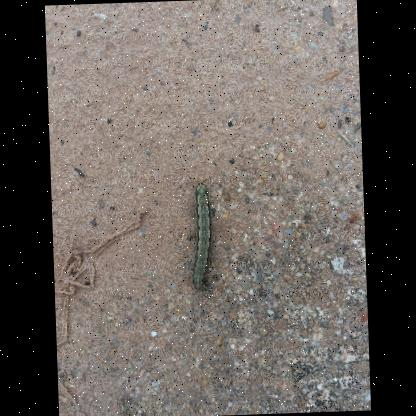Fall Armyworm Larvae: (186, 182, 216, 294)
